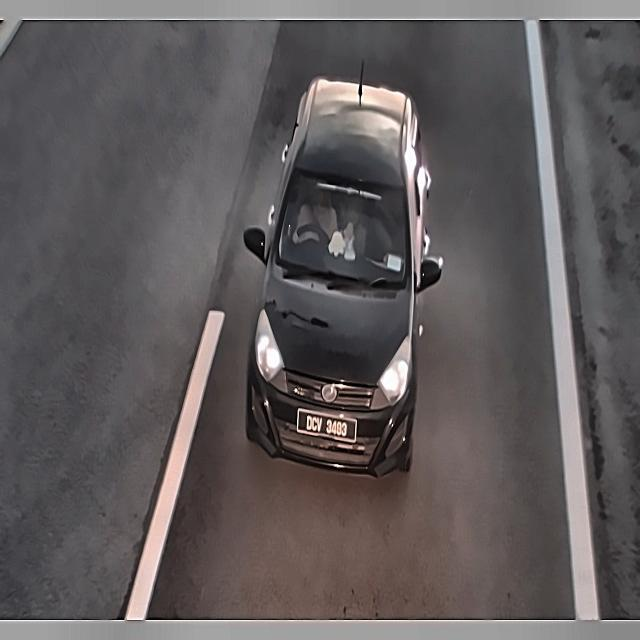car: (294, 405, 361, 449)
